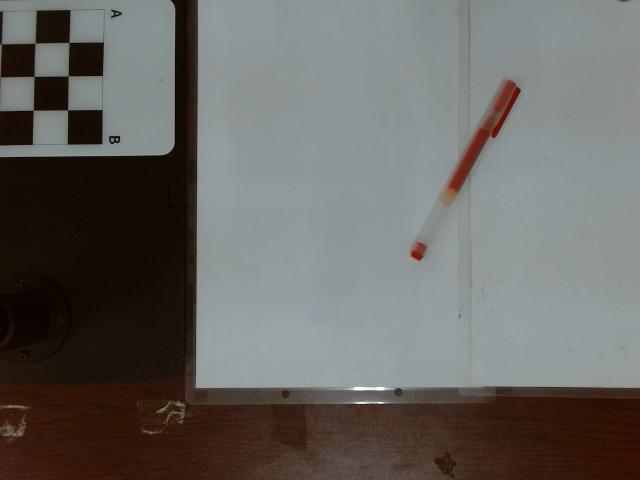PEN: (407, 76, 522, 264)
